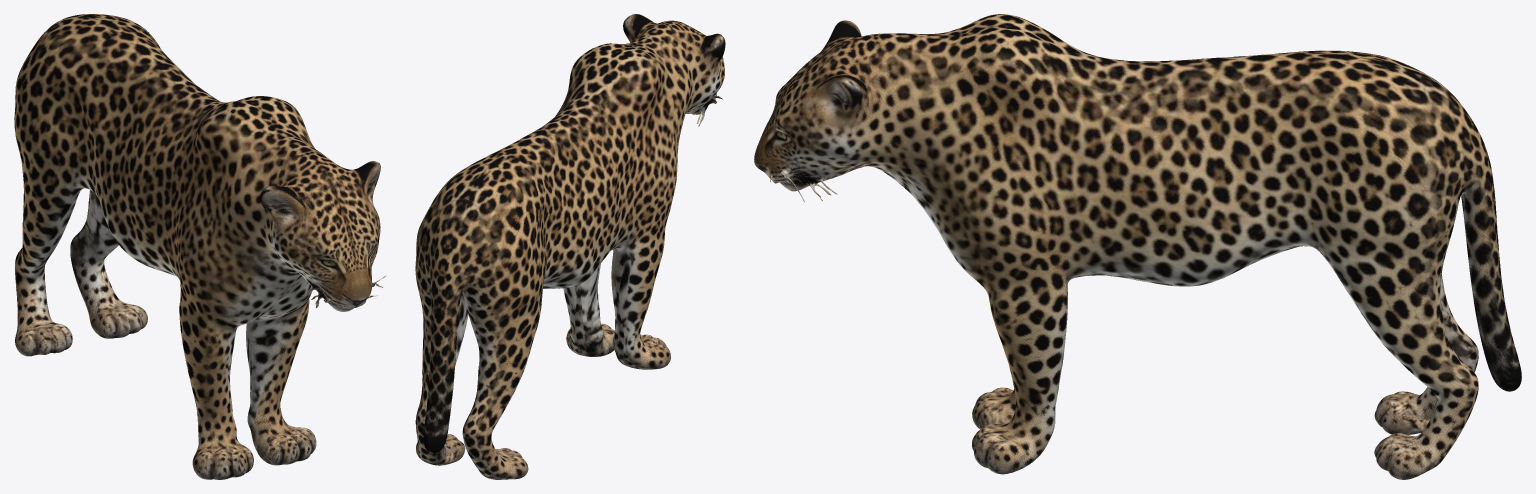
The model's file is jaguar.glb.
The picture shows the model from 3 angles, left to right: view 1: azimuth 30°, elevation 25°; view 2: azimuth 150°, elevation 25°; view 3: azimuth 270°, elevation 25°; orthographic projection. The views are drawn at different scales.
Size of the model in its own units: 0.4319 by 1.16 by 1.9.
1 material, 1 textured.
